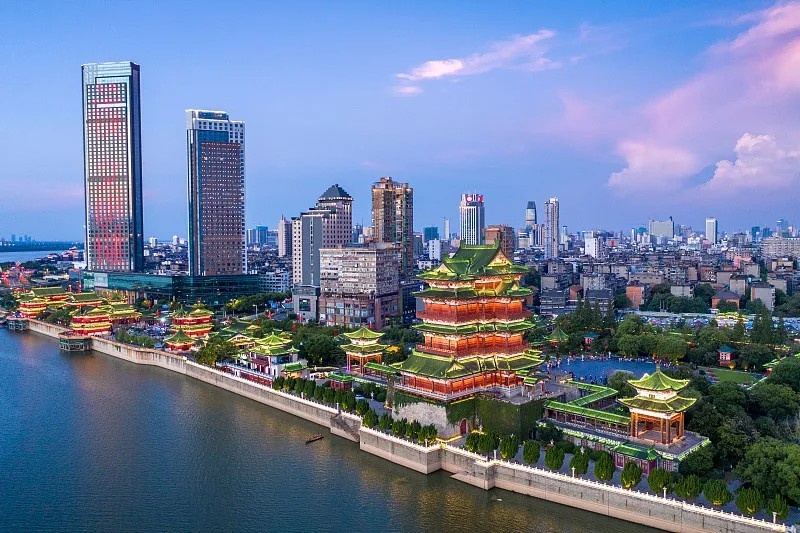Teng: (388, 240, 547, 395)
